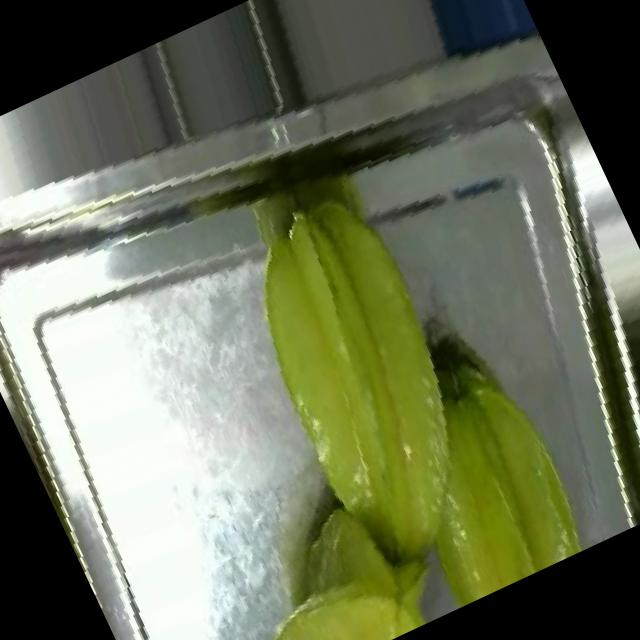fruit: (244, 253, 622, 640), (210, 468, 449, 640)
